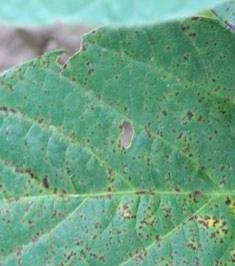Tomato Septoria leaf spot: (0, 29, 235, 266)
